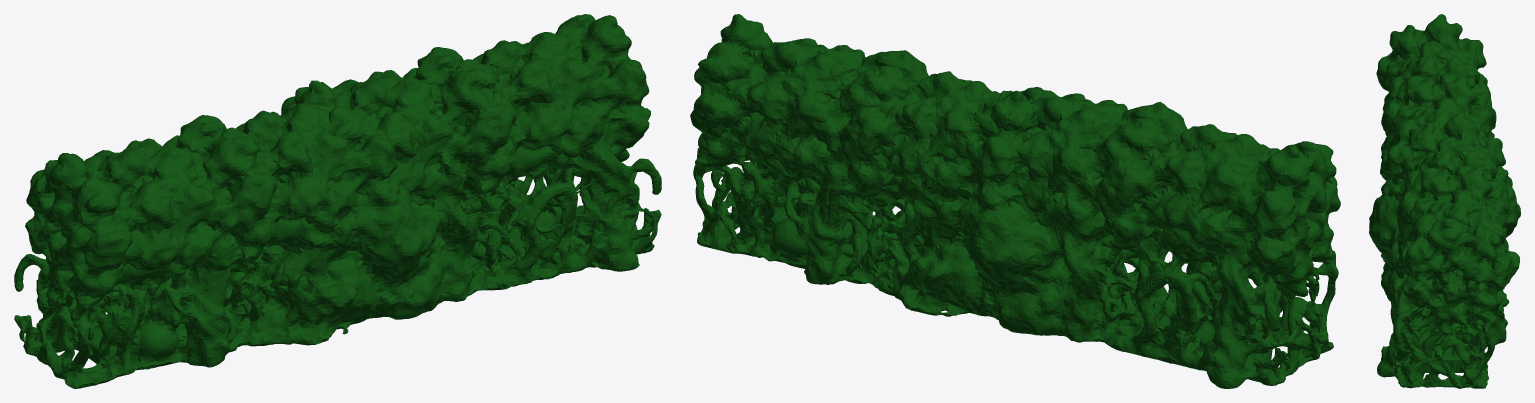
Rendered from Hedge2.fbx.
3 views of the same model, side by side, from view 1: azimuth 30°, elevation 25°; view 2: azimuth 150°, elevation 25°; view 3: azimuth 270°, elevation 25° (orthographic). The views are drawn at different scales.
Visible parts, largest first — view 1: Bocage 02 Repaired; view 2: Bocage 02 Repaired; view 3: Bocage 02 Repaired.
Boxes of the visible parts, x1=… form: Bocage 02 Repaired: x1=14, y1=14, x2=661, y2=388; Bocage 02 Repaired: x1=690, y1=14, x2=1340, y2=388; Bocage 02 Repaired: x1=1369, y1=14, x2=1520, y2=388.
Bounding box in the file's own units: 302 × 104 × 87.2.
